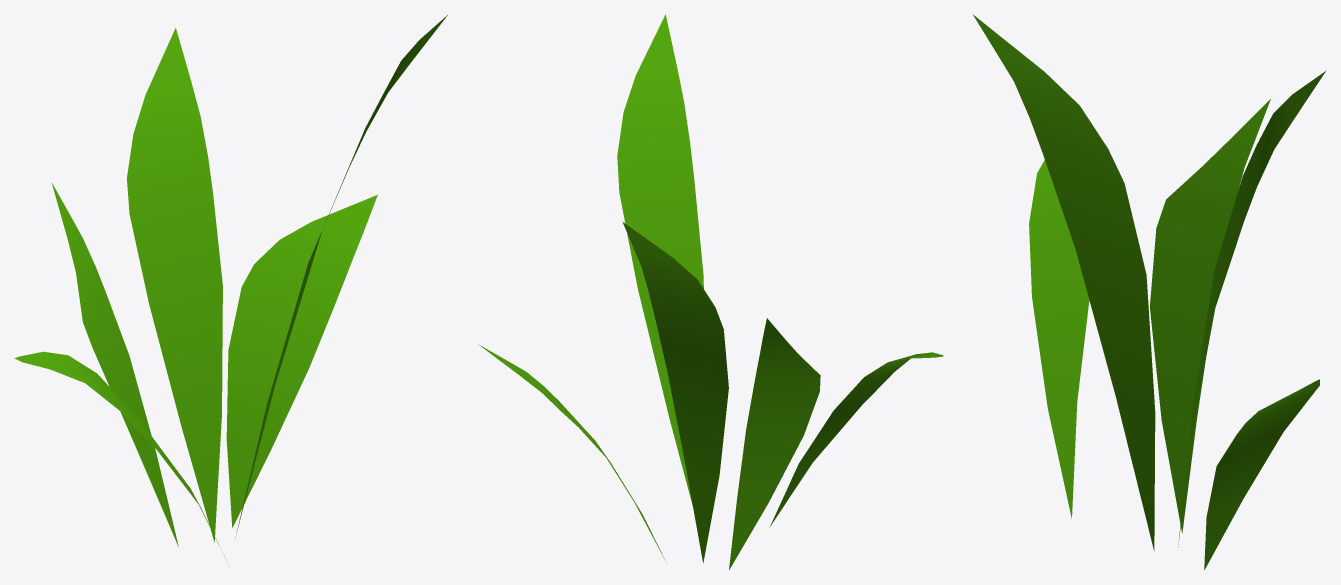
Rendered from grasstry1.fbx.
3 renders of one model, left to right at view 1: azimuth 30°, elevation 25°; view 2: azimuth 150°, elevation 25°; view 3: azimuth 270°, elevation 25°, orthographic. The views are drawn at different scales.
Visible parts, largest first — view 1: Plane.002; view 2: Plane.002; view 3: Plane.002.
Boxes of the visible parts, left/top/right/bottom form: Plane.002: left=14, top=15, right=447, bottom=556; Plane.002: left=478, top=14, right=943, bottom=569; Plane.002: left=973, top=14, right=1325, bottom=569.
Bounding box in the file's own units: 13.13 × 15.26 × 7.96.
